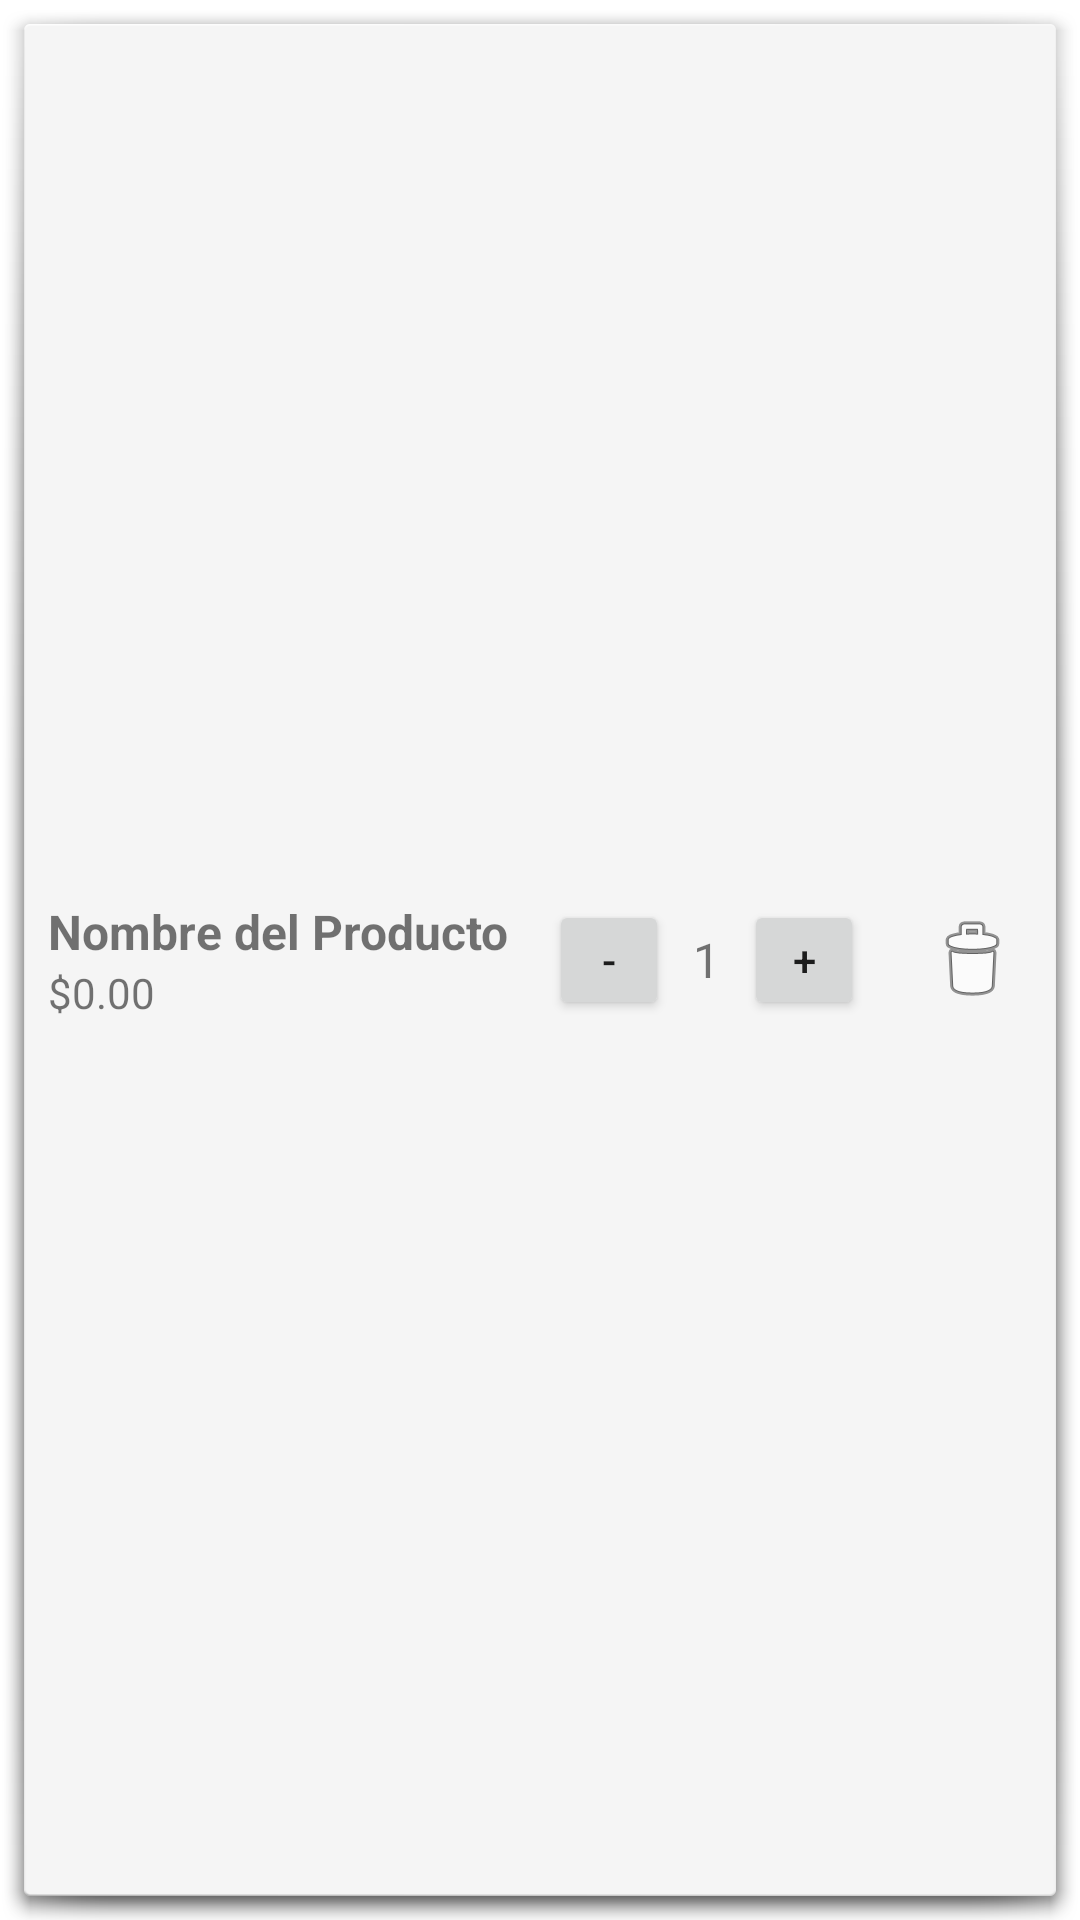

Icon bounding boxes for this 1080px x 1920px phone screenshot, format (x1, y1, x2, y2):
Eliminar del carrito: (945, 921, 1000, 996)
